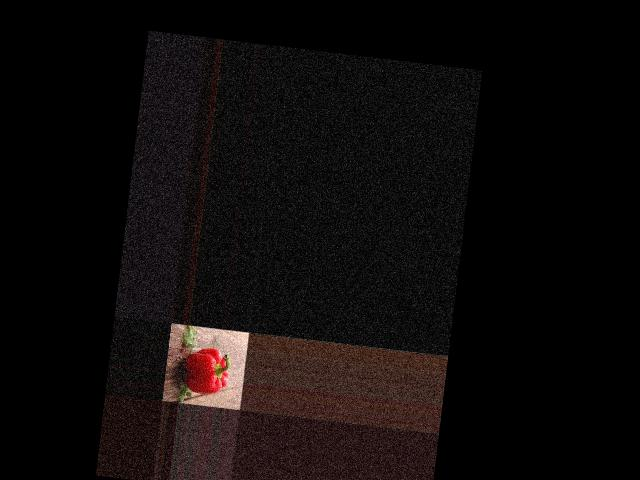bell_pepper: (179, 342, 235, 400)
